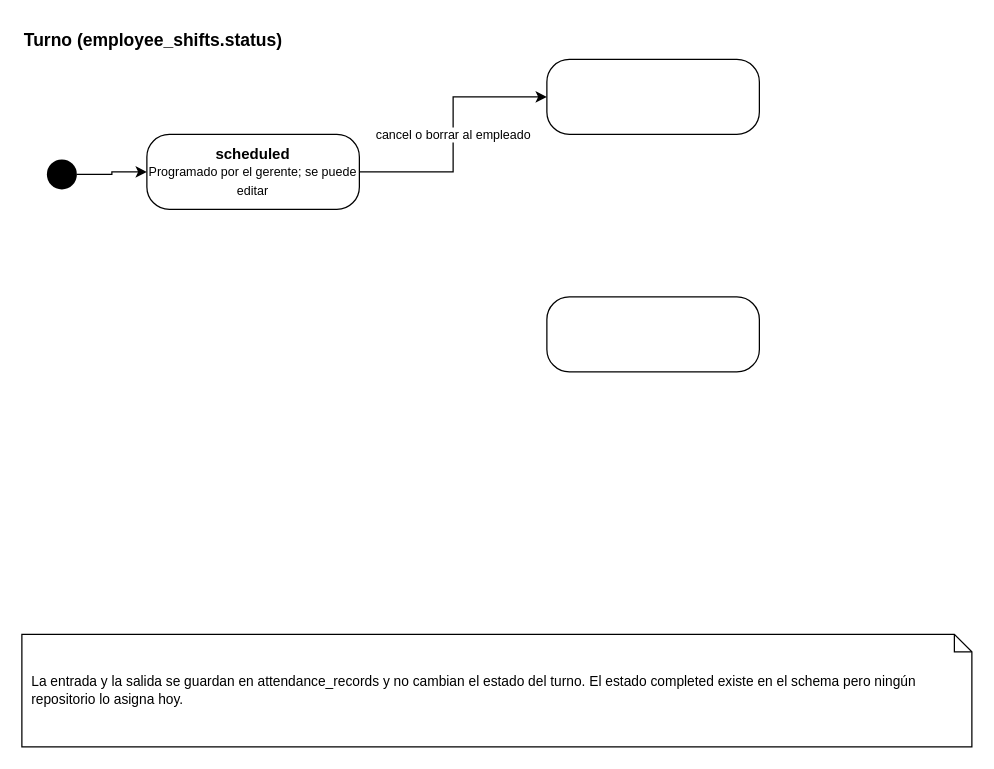
Image size: 994x769. Some labels were removed from this diagram. Each missing label, with the box of its shape:
cancelled Cancelado: (546, 58, 759, 134)
completed En el enum; el código actual no lo escribe: (546, 296, 759, 372)
